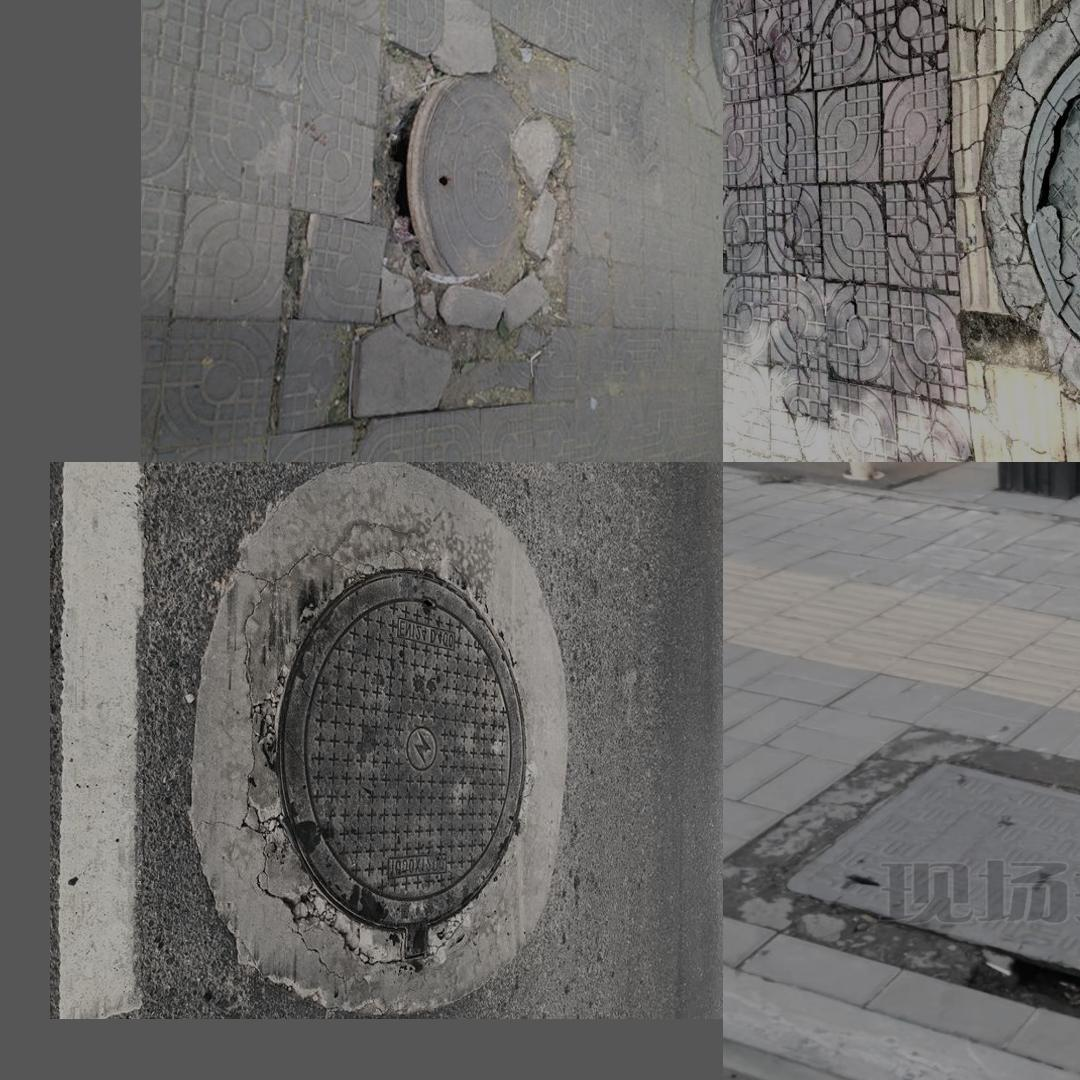circle: (192, 477, 565, 1007), (732, 726, 1080, 1070), (349, 40, 577, 422), (968, 0, 1080, 434)
